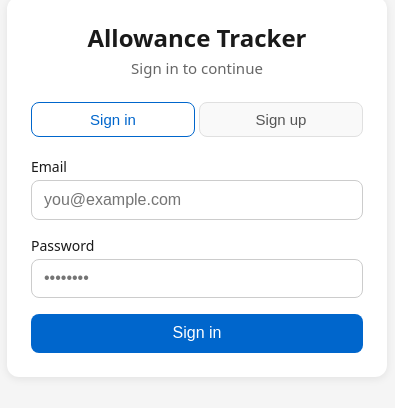
Test: AuthScreen › switches to sign up tab
Click the button "Sign up".
click(281, 120)  # box left=199, top=102, right=363, bottom=137
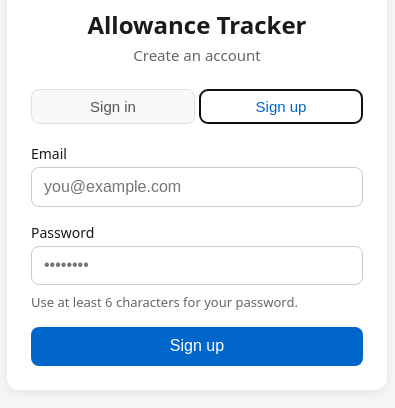
Check: the text "Create an account" is shown, box left=133, top=45, right=261, bottom=65
